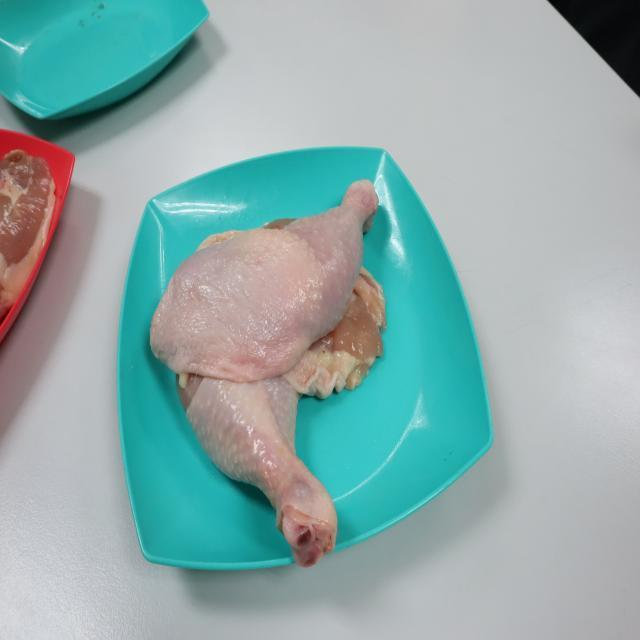quater: (168, 327, 402, 554), (178, 172, 386, 388)
